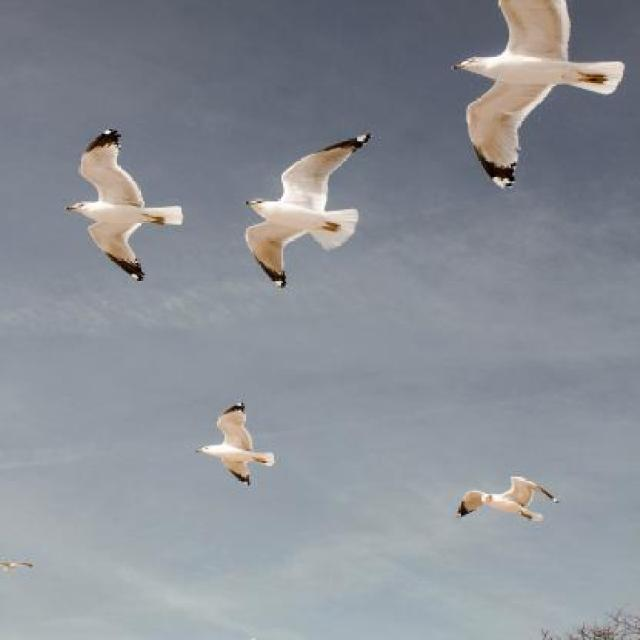bird: (453, 0, 625, 188), (244, 134, 373, 288), (65, 128, 183, 280), (195, 402, 276, 486), (458, 476, 559, 521), (0, 561, 35, 570)
